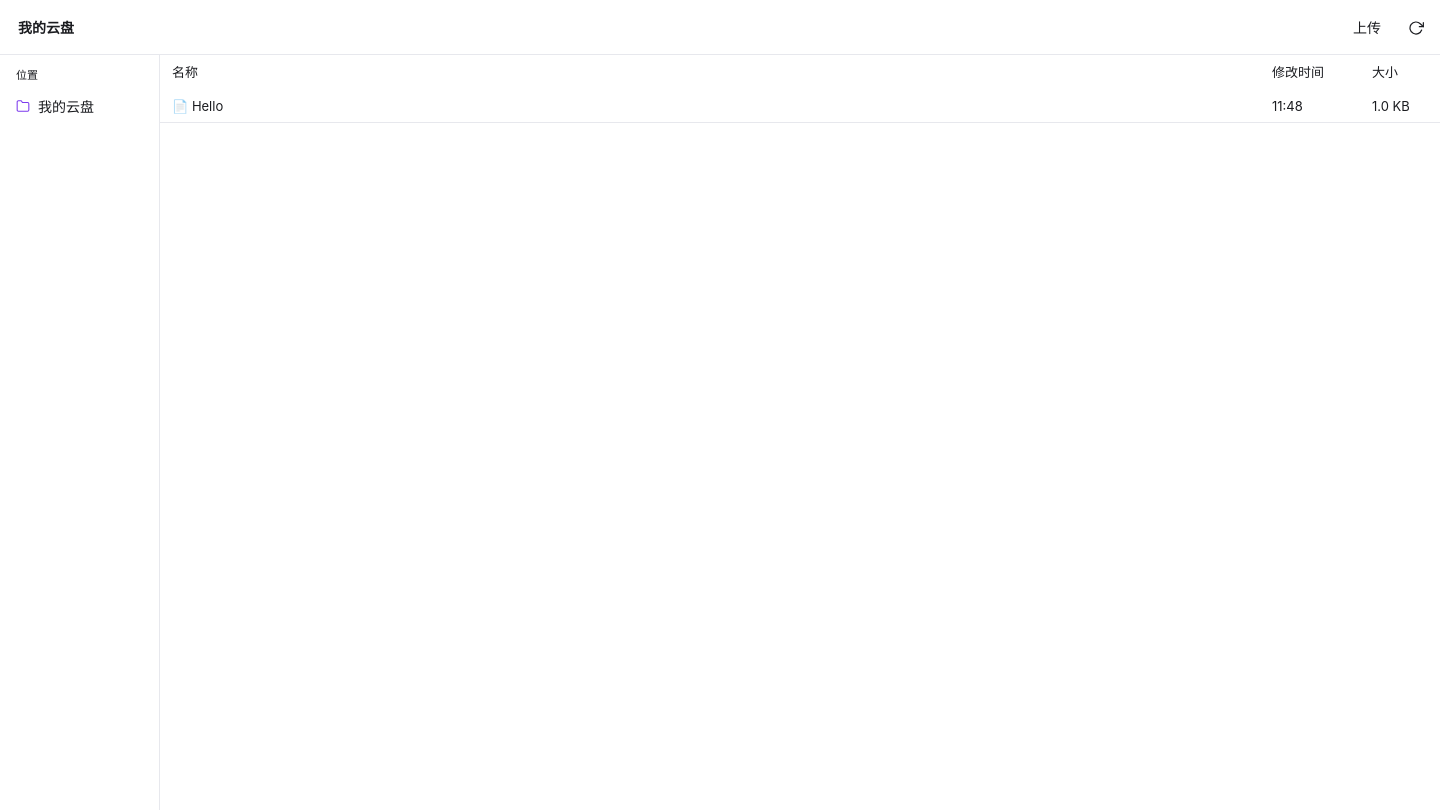
Test: FilesApp › shows download button after selecting a file
Expected: the text "下载" is not shown
Click the row with test id "file-row-hello.pdf" at (800, 106), box [160,90,1439,122]
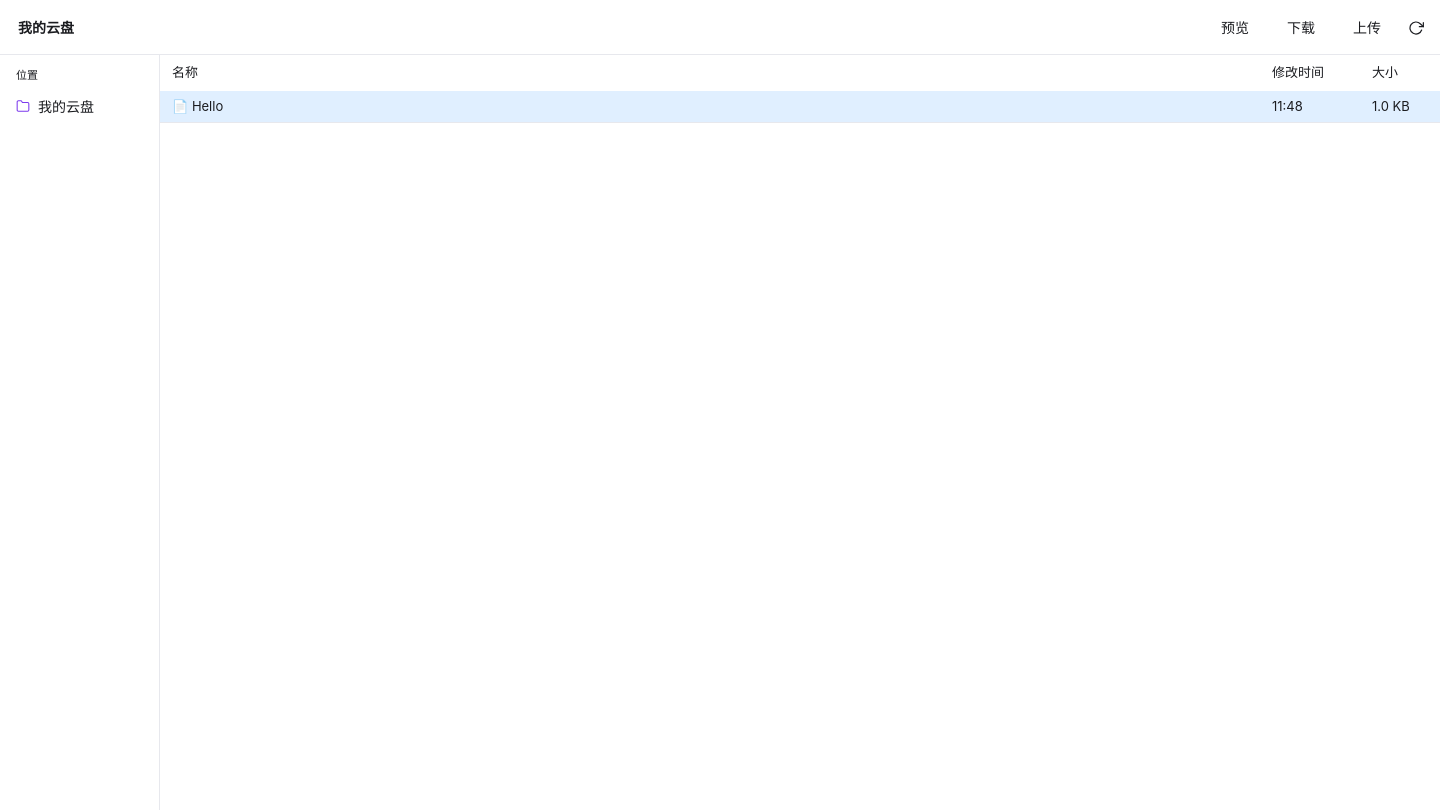
Now the button "下载" is shown, box [1272,8,1330,46]
Now the button "预览" is shown, box [1206,8,1264,46]
